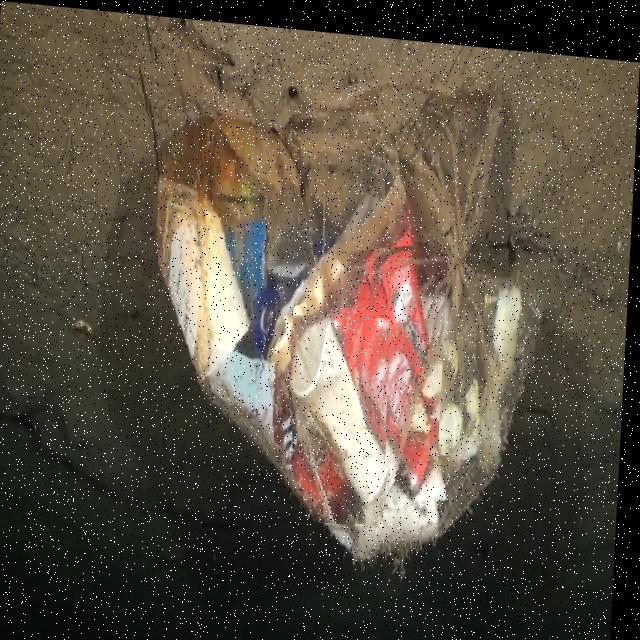plasticbottle: (287, 297, 396, 519)
plasticcover: (125, 42, 575, 598), (347, 236, 450, 503)
